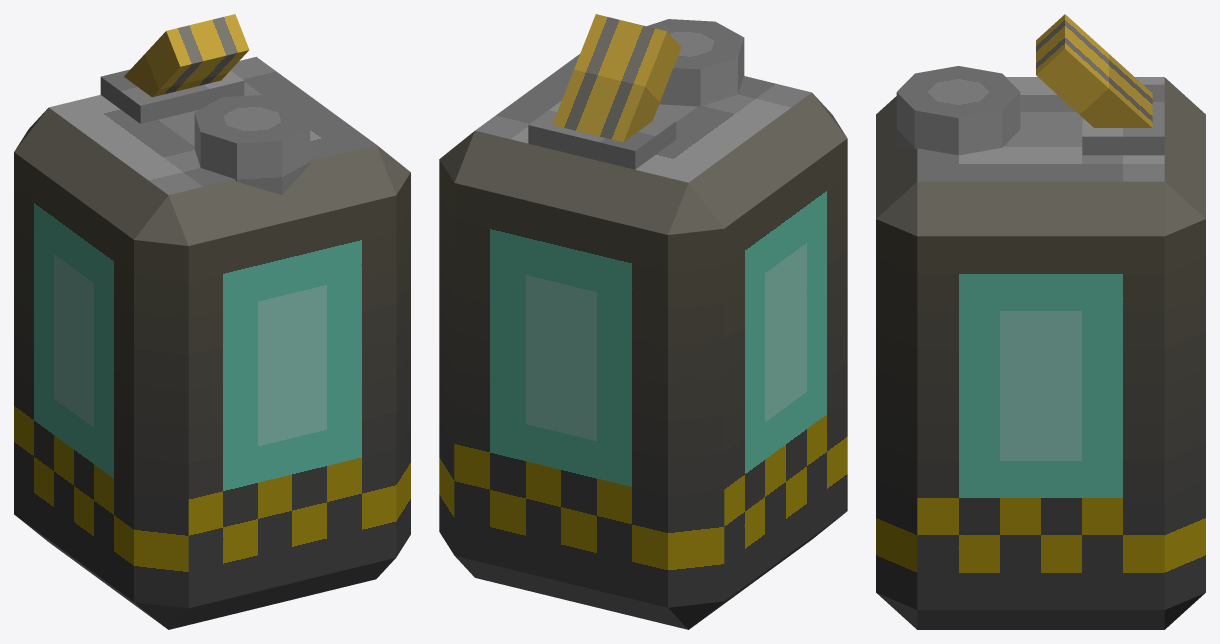
The model's file is suit_battery.obj.
3 views of the same model, side by side, from view 1: azimuth 30°, elevation 25°; view 2: azimuth 150°, elevation 25°; view 3: azimuth 270°, elevation 25° (orthographic). The views are drawn at different scales.
Visible parts, largest first — view 1: Plane; view 2: Plane; view 3: Plane.
Boxes of the visible parts, x1=… form: Plane: x1=14, y1=14, x2=410, y2=629; Plane: x1=439, y1=14, x2=847, y2=629; Plane: x1=876, y1=14, x2=1205, y2=629.
Bounding box in the file's own units: 0.25 × 0.4569 × 0.25.
